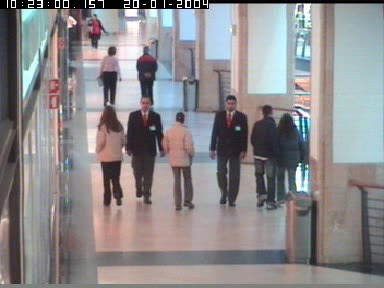person: (124, 94, 165, 204), (209, 95, 247, 207), (268, 113, 306, 204), (160, 114, 195, 210), (95, 106, 125, 206), (250, 105, 278, 209), (97, 46, 123, 106), (136, 46, 158, 106), (86, 13, 106, 48), (66, 15, 78, 53)
